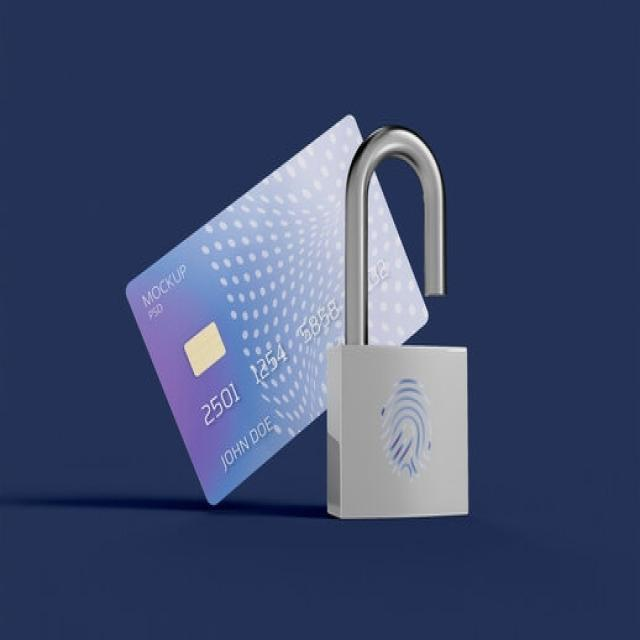payment_card: (123, 112, 430, 506)
